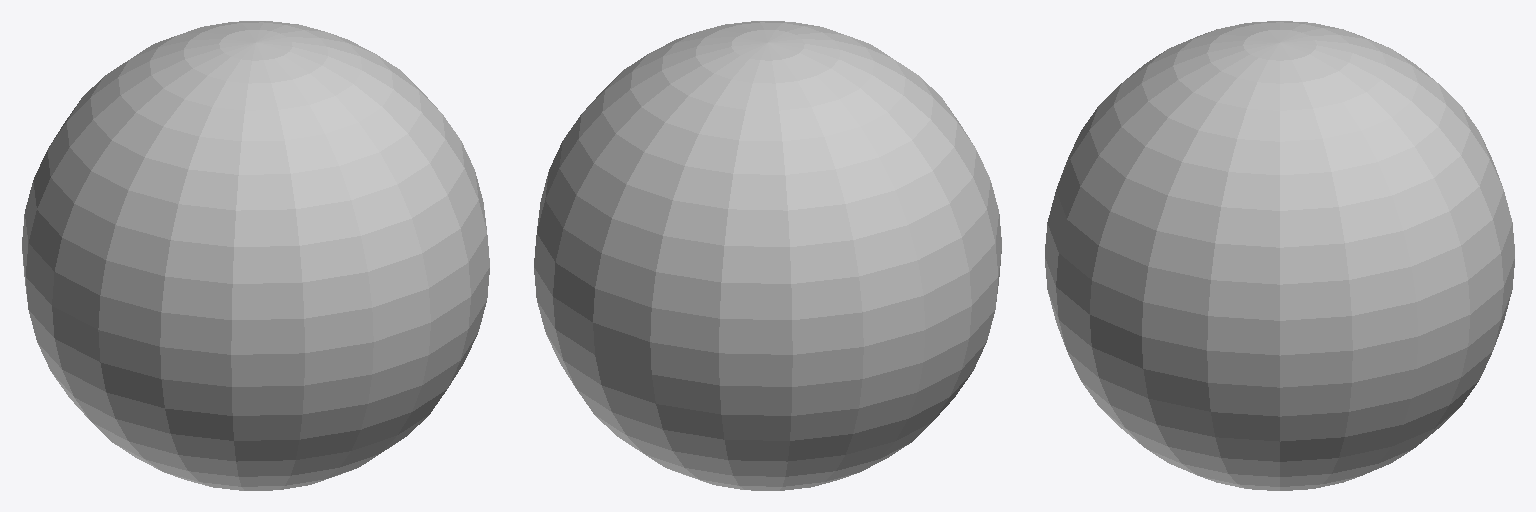
File: bala.obj
3 renders of one model, left to right at view 1: azimuth 30°, elevation 25°; view 2: azimuth 150°, elevation 25°; view 3: azimuth 270°, elevation 25°, orthographic.
Parts seen in each view (by area): view 1: pSphere1; view 2: pSphere1; view 3: pSphere1.
Part boxes in pixels (left/top/right/bottom): pSphere1: left=22, top=21, right=489, bottom=490; pSphere1: left=534, top=21, right=1001, bottom=490; pSphere1: left=1045, top=21, right=1514, bottom=490.
Size of the model in its own units: 0.9221 by 0.9221 by 0.9221.